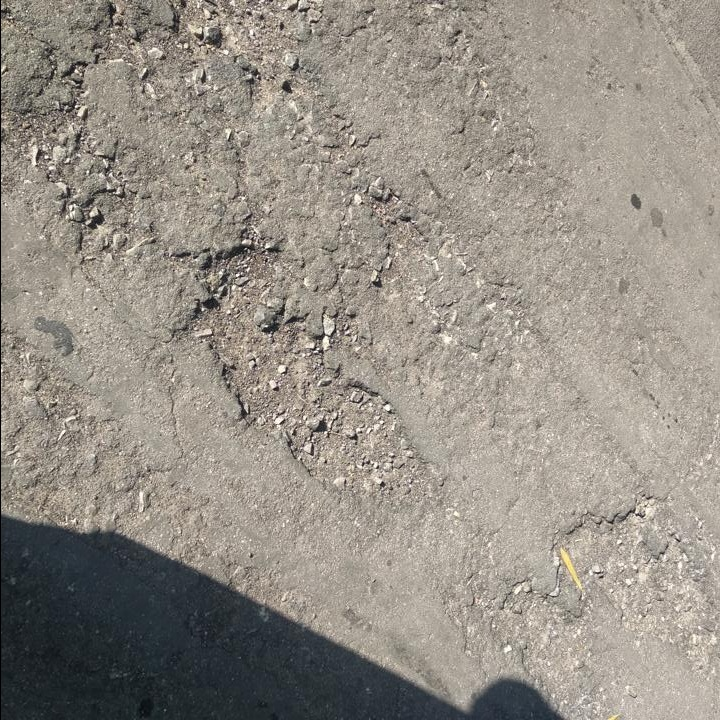pothole: (556, 489, 720, 682), (179, 231, 326, 442), (293, 369, 433, 522), (489, 579, 591, 692)
